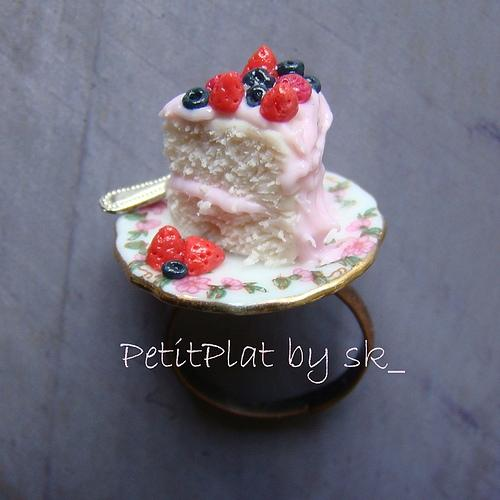blueberry: (242, 67, 276, 88), (182, 87, 211, 110), (246, 84, 270, 108), (161, 260, 188, 280), (277, 60, 304, 78), (303, 75, 321, 94)
strawberry: (146, 226, 185, 272), (182, 236, 226, 276), (260, 83, 299, 122), (209, 73, 244, 113), (240, 46, 279, 78)
